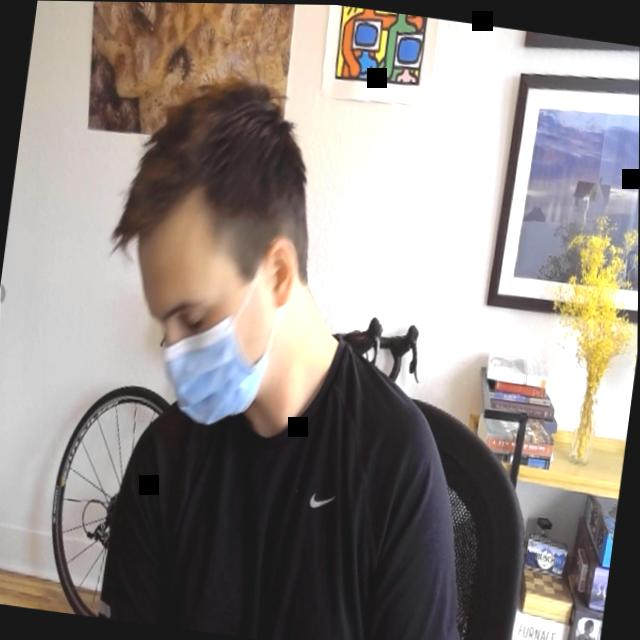Mask: (114, 208, 286, 432)
